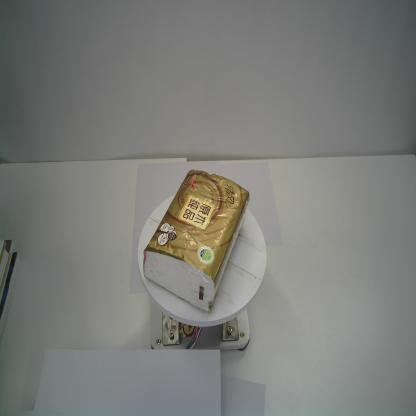Tissue: (143, 170, 250, 314)
